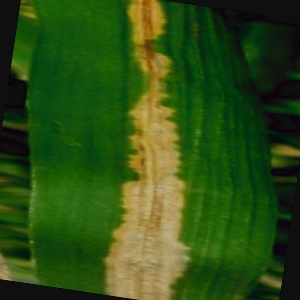Leaf_Blast: (32, 1, 243, 298)
